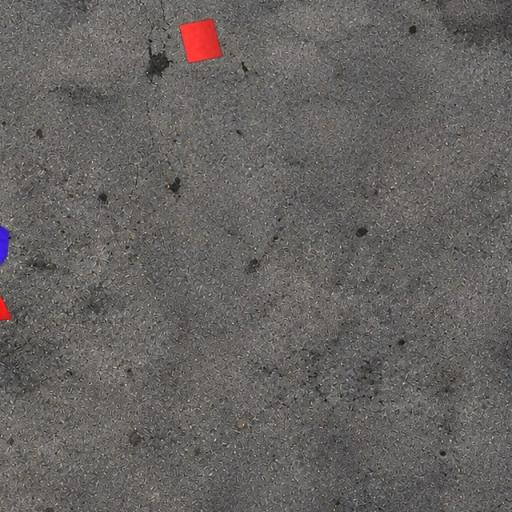RED_SQUARE: (178, 18, 224, 64)
